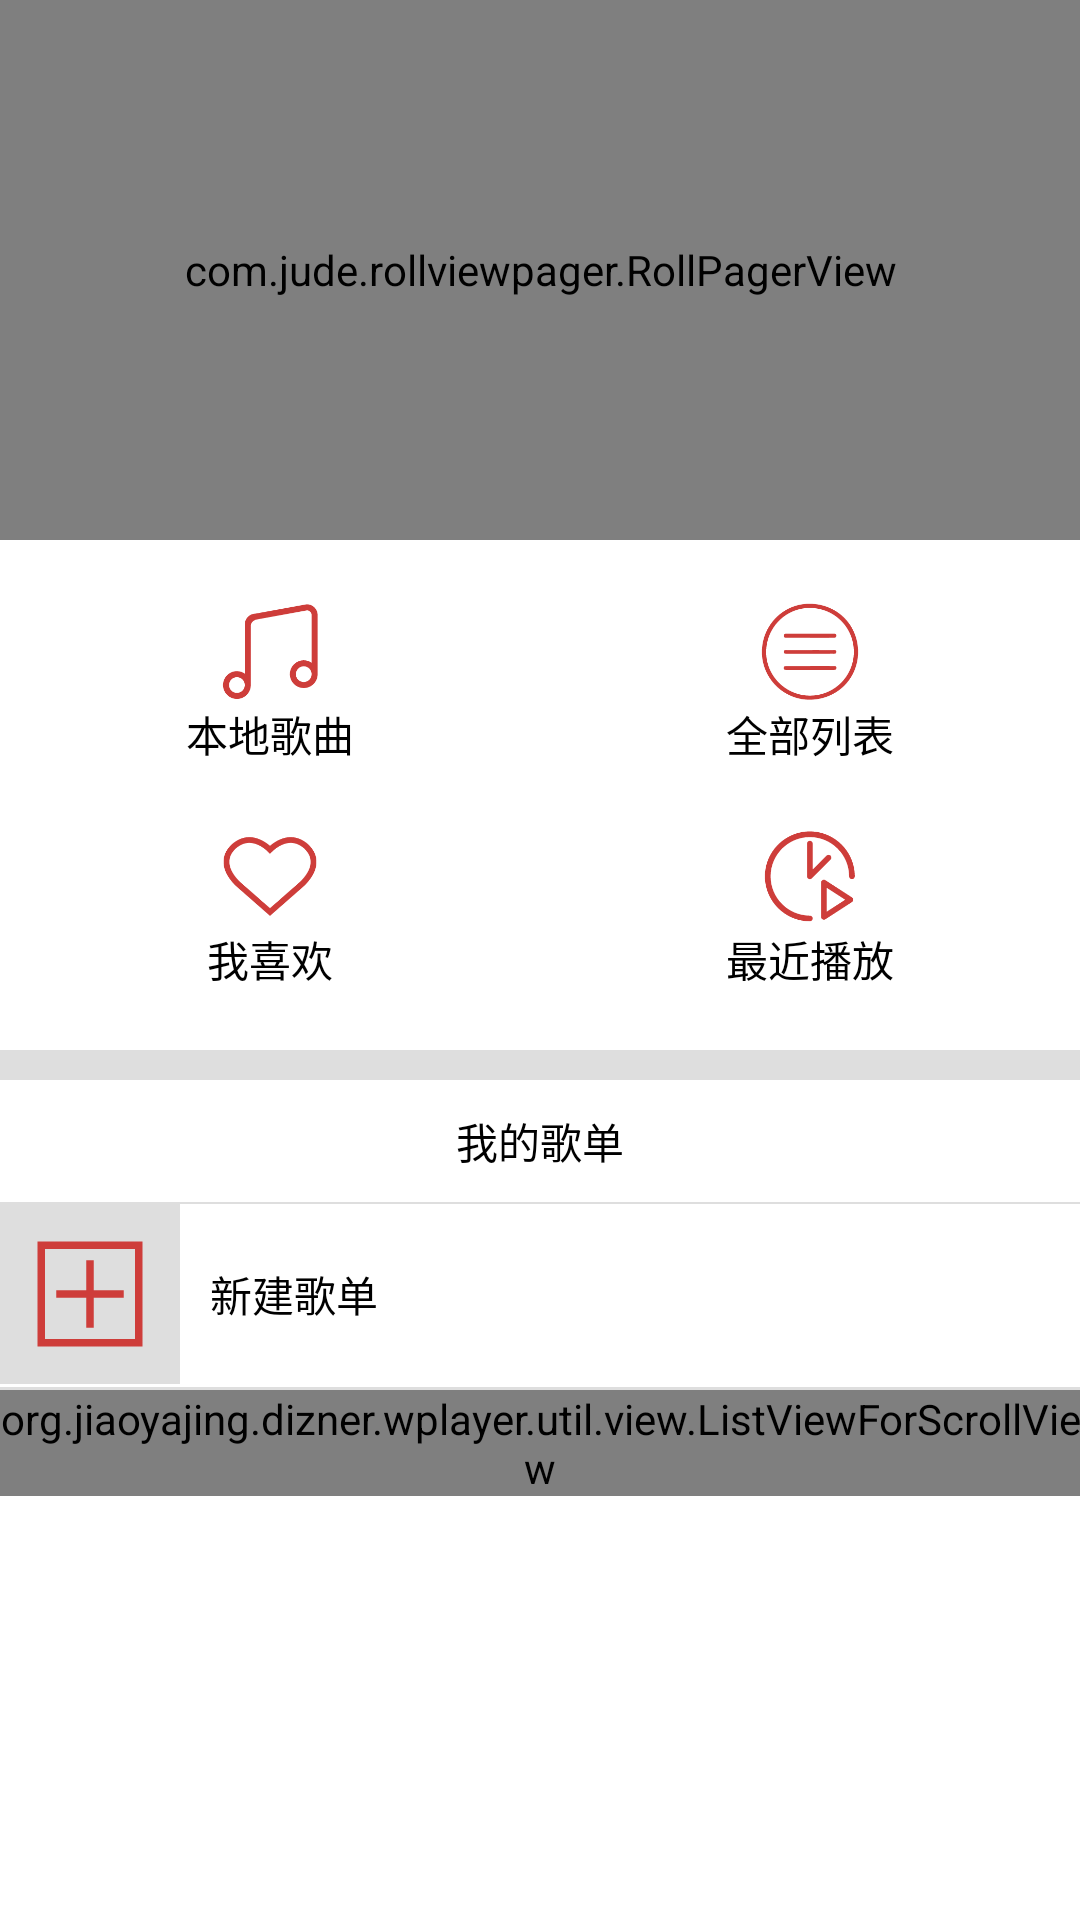

Icons on this 1080 x 1920 Android screen, each with the point to tap as (x=x, y=y):
add list: (x=90, y=1294)
